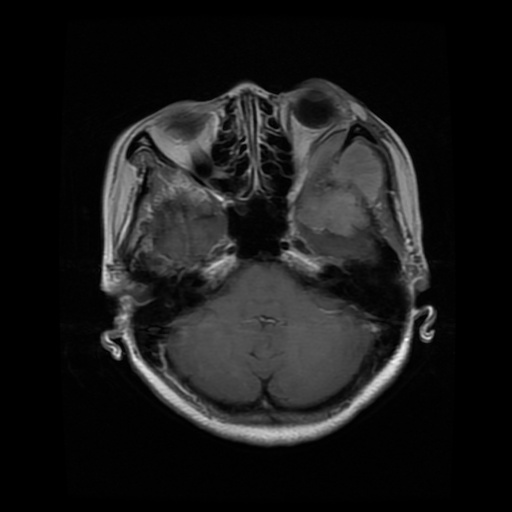meningioma: (297, 131, 384, 236)
